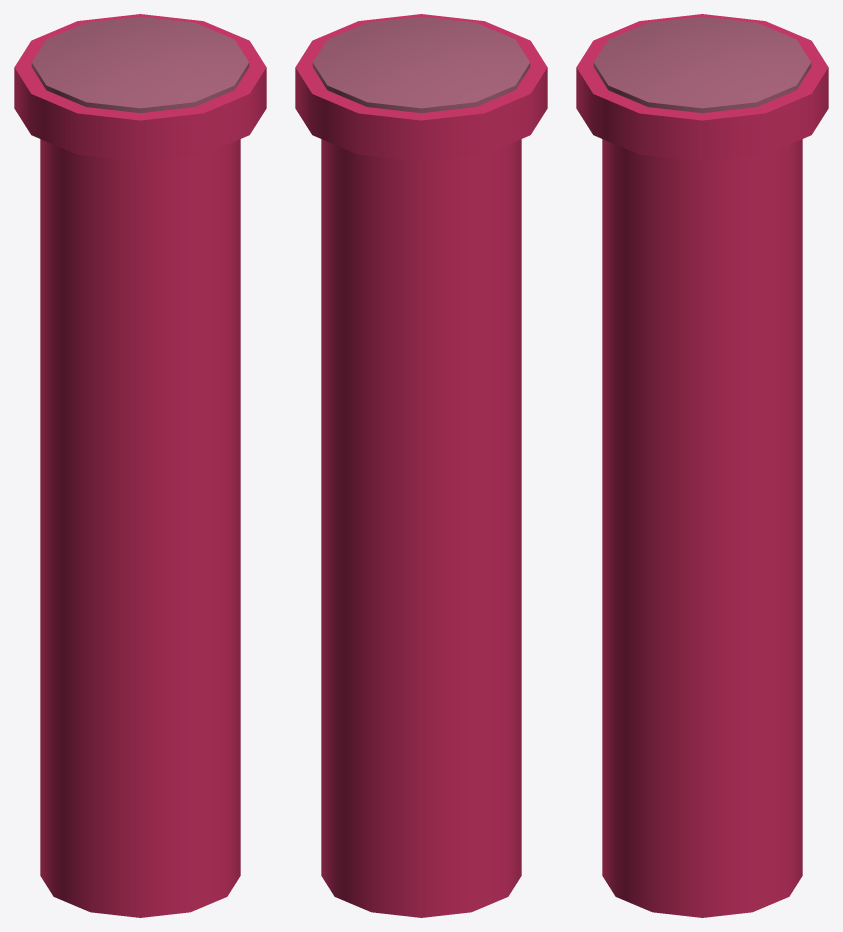
The model's file is uiResultTour_v2.fbx.
3 renders of one model, left to right at view 1: azimuth 30°, elevation 25°; view 2: azimuth 150°, elevation 25°; view 3: azimuth 270°, elevation 25°, orthographic.
Visible parts, largest first — view 1: Paul_Red; view 2: Paul_Red; view 3: Paul_Red.
Part boxes in pixels (x1=…): Paul_Red: x1=14, y1=14, x2=266, y2=917; Paul_Red: x1=295, y1=14, x2=547, y2=917; Paul_Red: x1=576, y1=14, x2=828, y2=917.
Bounding box in the file's own units: 22.75 × 81.78 × 22.75.
